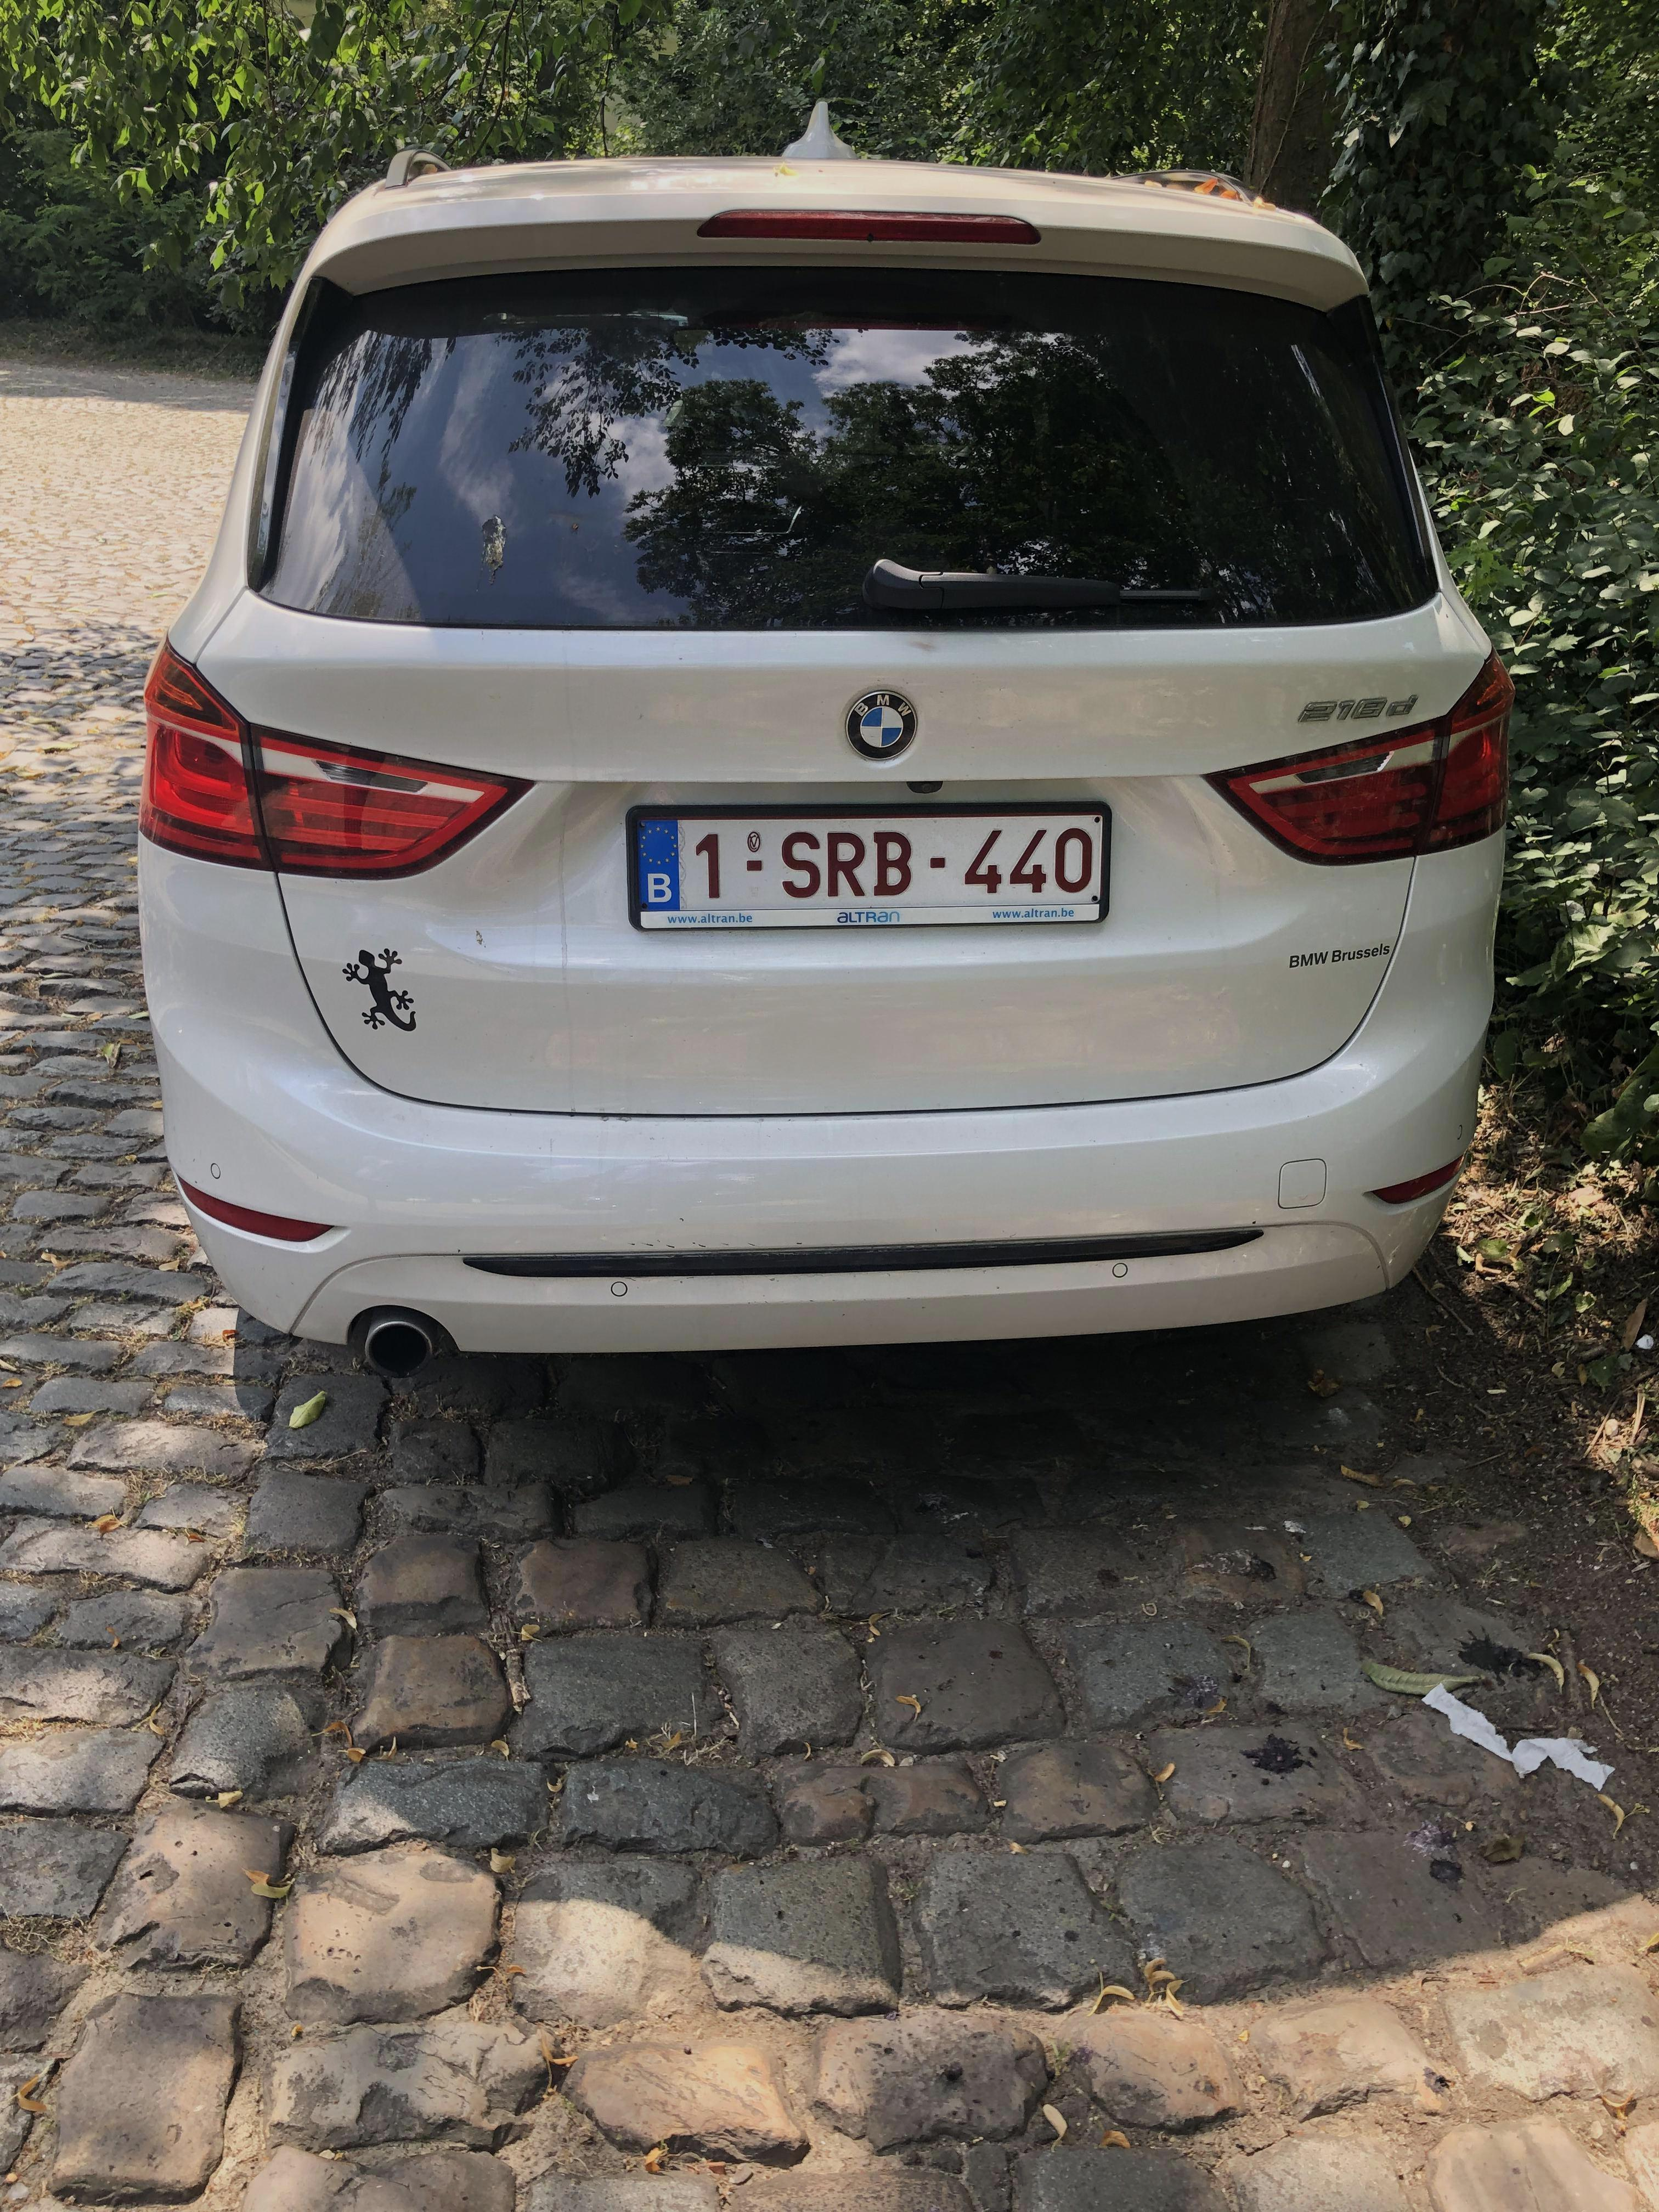plate: (597, 782, 1143, 938)
